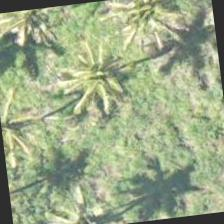Kelapa_Sawit: (46, 20, 146, 120), (32, 166, 130, 223)
